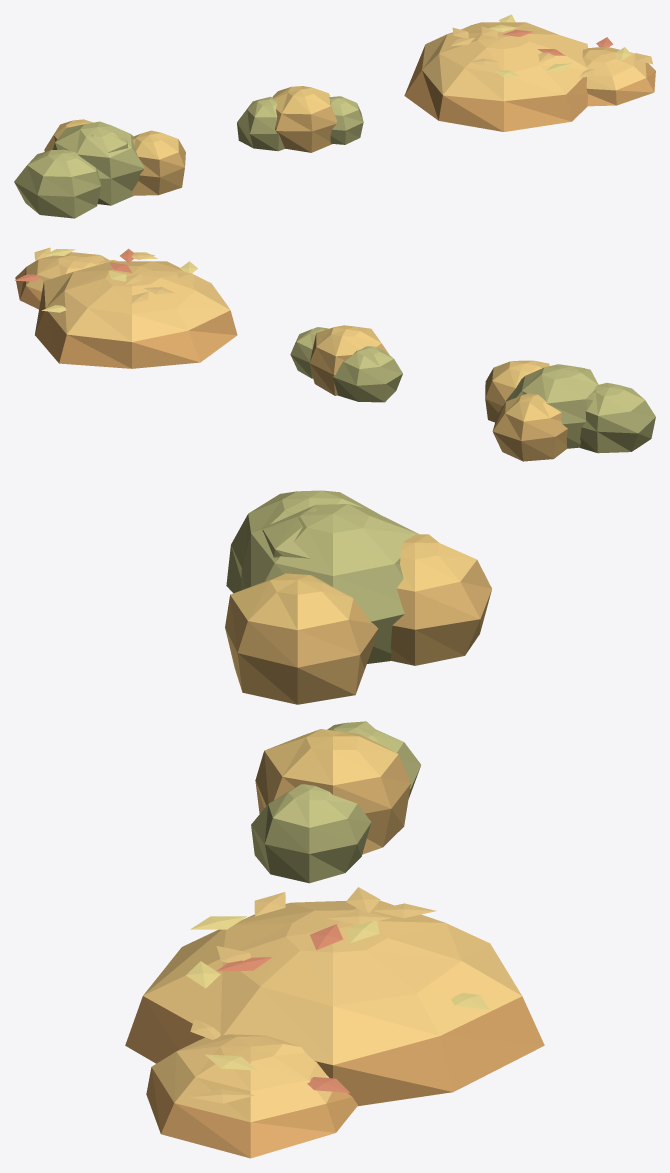
Rendered from bushes_and_leaf_pile.glb.
3 views of the same model, one above another, from view 1: azimuth 30°, elevation 25°; view 2: azimuth 150°, elevation 25°; view 3: azimuth 270°, elevation 25° (orthographic). The views are drawn at different scales.
Visible parts, largest first — view 1: LeafPile, Bush_A, Bush_B; view 2: LeafPile, Bush_A, Bush_B; view 3: LeafPile, Bush_A, Bush_B.
Part boxes in pixels (bbox=[...]): LeafPile: bbox=[404, 14, 655, 131]; Bush_A: bbox=[14, 119, 185, 218]; Bush_B: bbox=[237, 86, 363, 152]; LeafPile: bbox=[15, 247, 237, 368]; Bush_A: bbox=[485, 360, 655, 461]; Bush_B: bbox=[290, 325, 402, 402]; LeafPile: bbox=[125, 887, 544, 1158]; Bush_A: bbox=[225, 490, 491, 704]; Bush_B: bbox=[251, 721, 420, 883].
Bounding box in the file's own units: 12.13 × 1.14 × 3.57.
